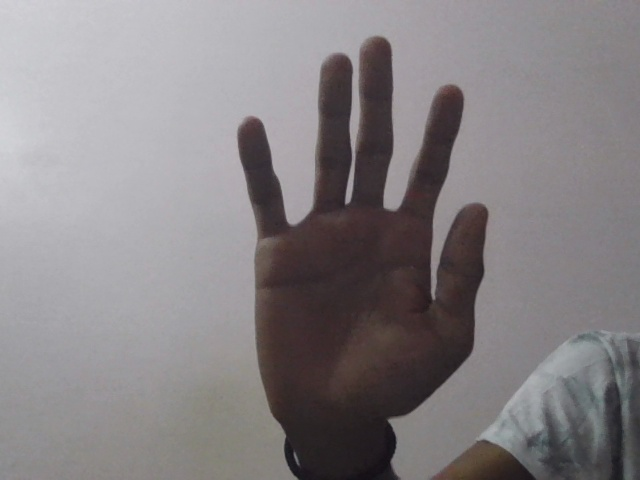hello: (205, 21, 501, 459)
